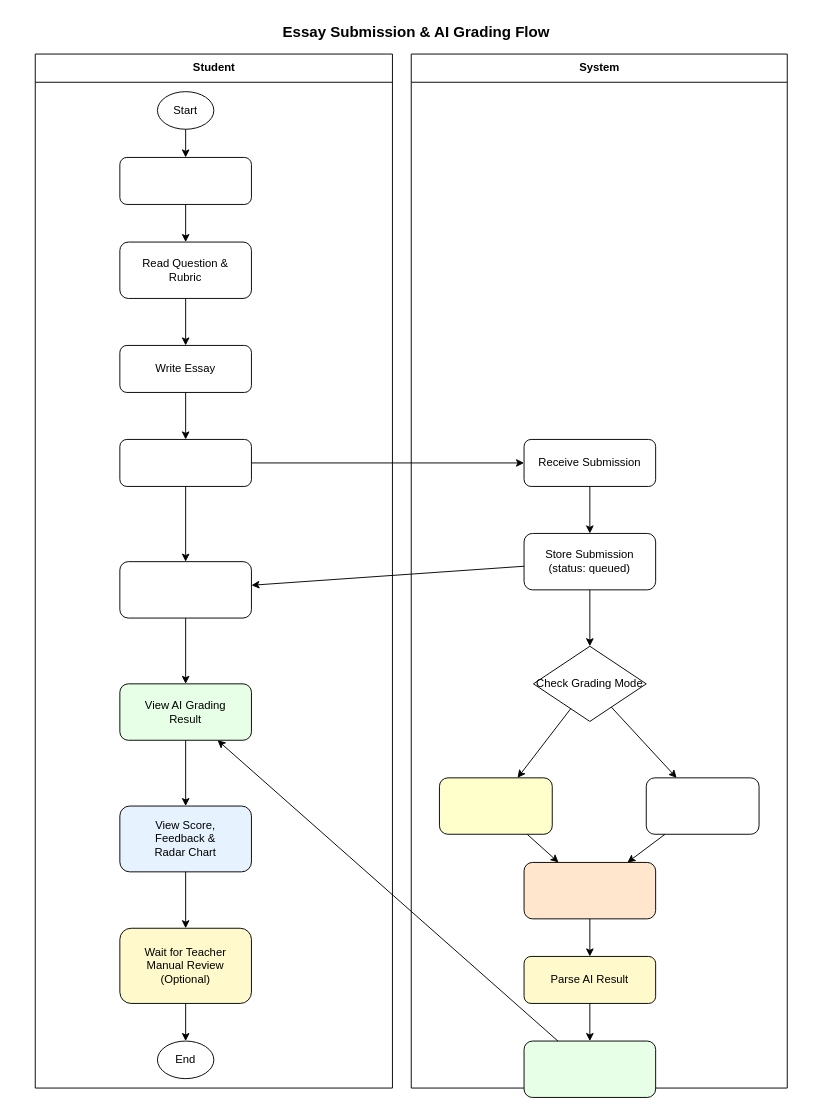
This 831x1114 diagram has some shape labels left out. The centre of each missing label's shape, as x and y in pixels:
"Call Gemini AI with Rubric" belongs at (x=589, y=890).
"Grade Instantly (blocking)" belongs at (x=495, y=805).
"Queue for Worker (async)" belongs at (x=702, y=805).
"Save Score & Feedback" belongs at (x=589, y=1068).
"Submit Essay" belongs at (x=185, y=462).
"View Essay Task" belongs at (x=185, y=180).
"Wait for Grading" belongs at (x=185, y=589).
